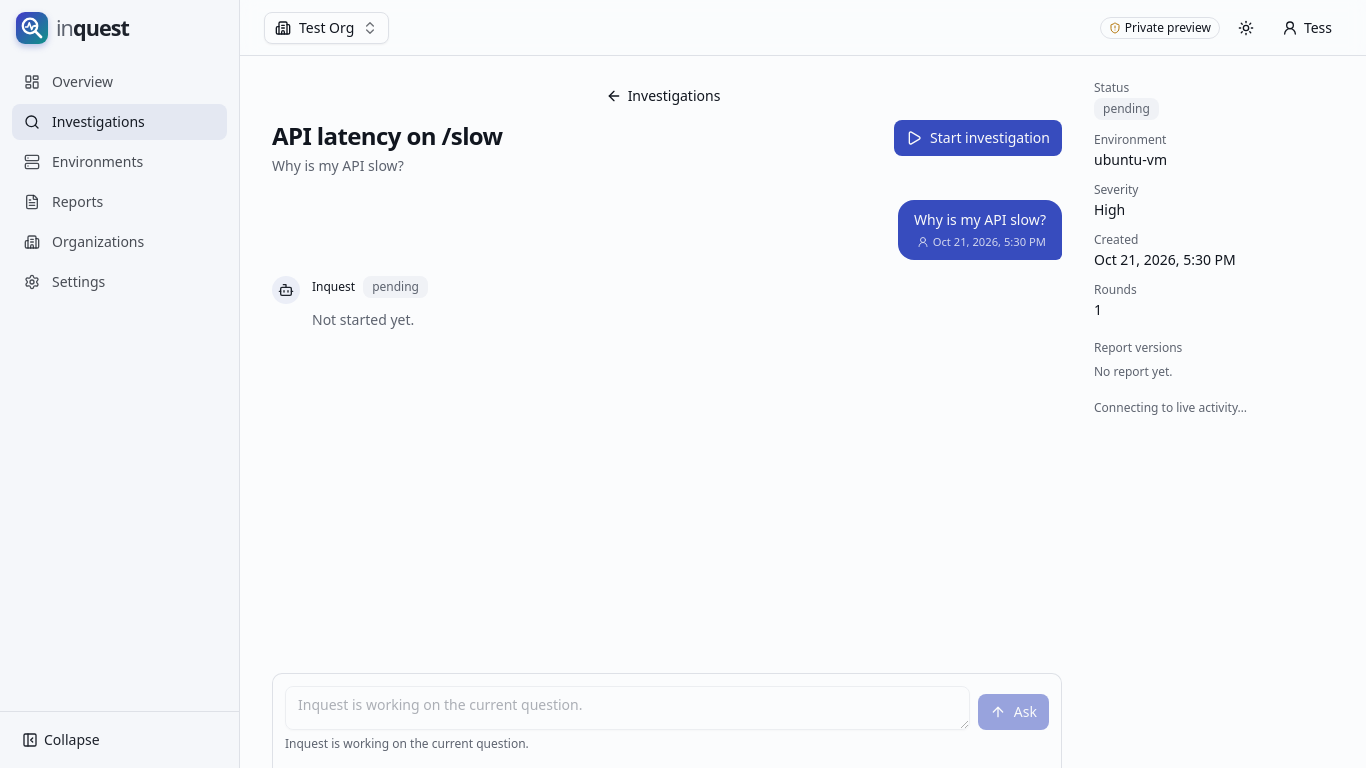
Test case: conversation › explains a start refused because the runner is disabled
Click the button "Start investigation": (978, 138) [894,120,1062,156]
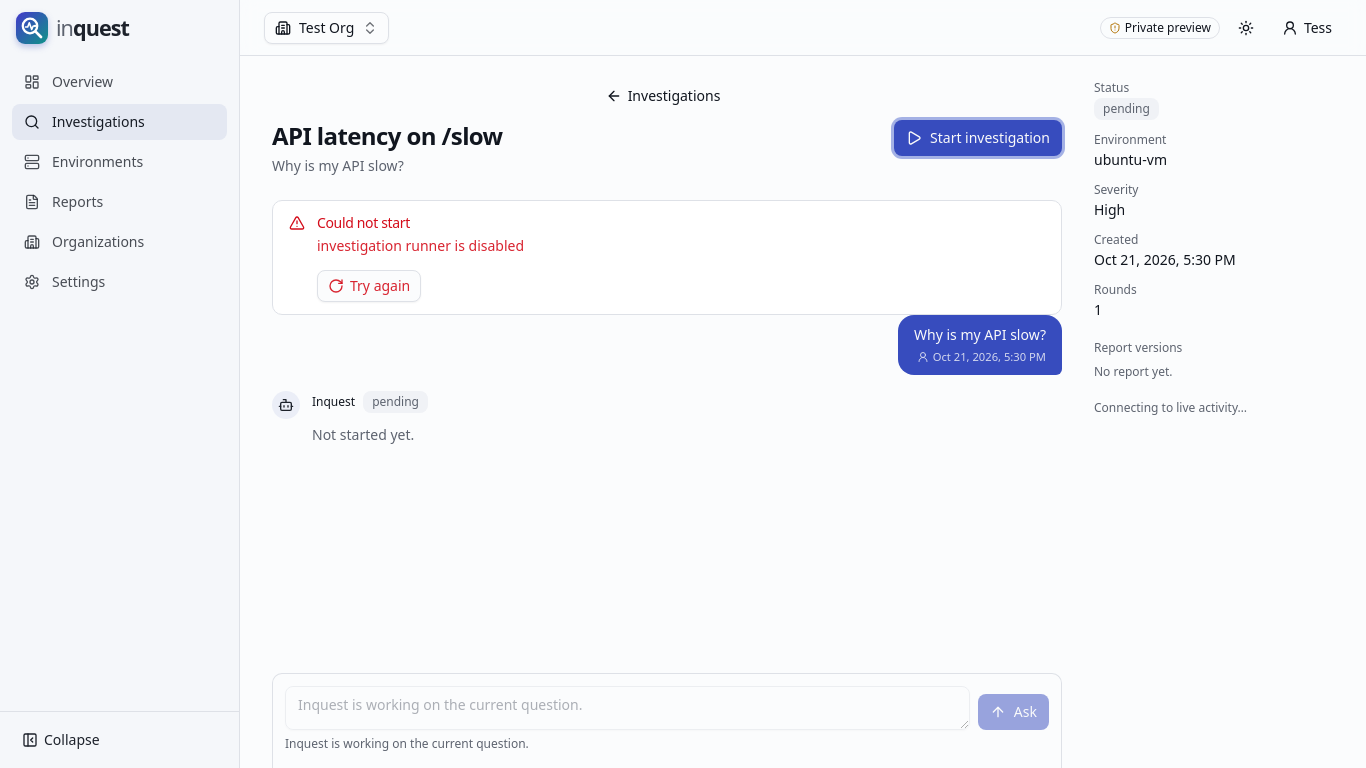
Check: the text "Could not start" is shown, box [317,213,410,232]
Check: the text "investigation runner is disabled" is shown, box [317,235,524,258]
